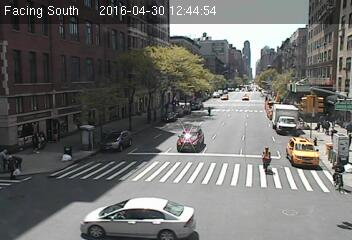pos: (257, 144, 277, 171)
